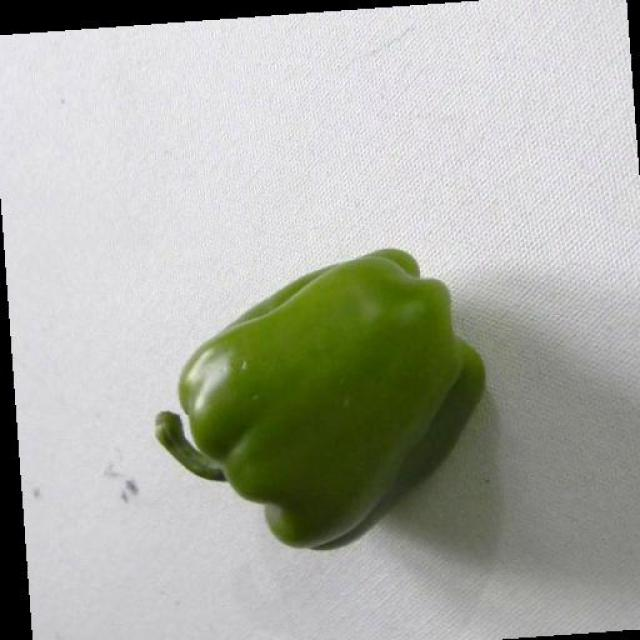Fresh_Capsicum: (158, 253, 488, 527)
